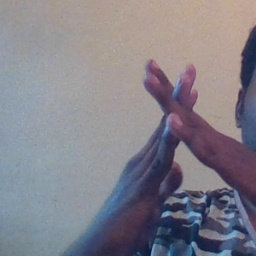W: (108, 46, 245, 198)
